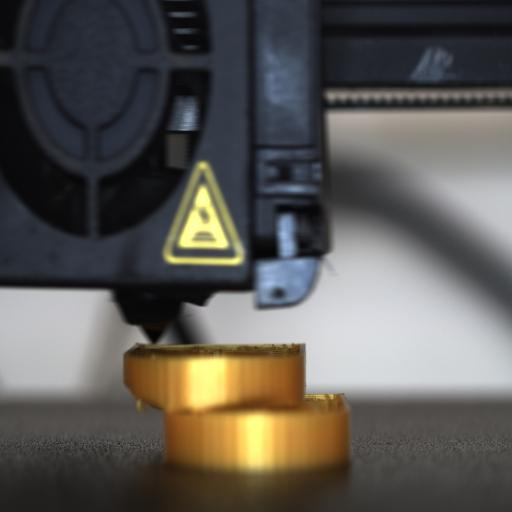layer_shift: (122, 384, 356, 421)
